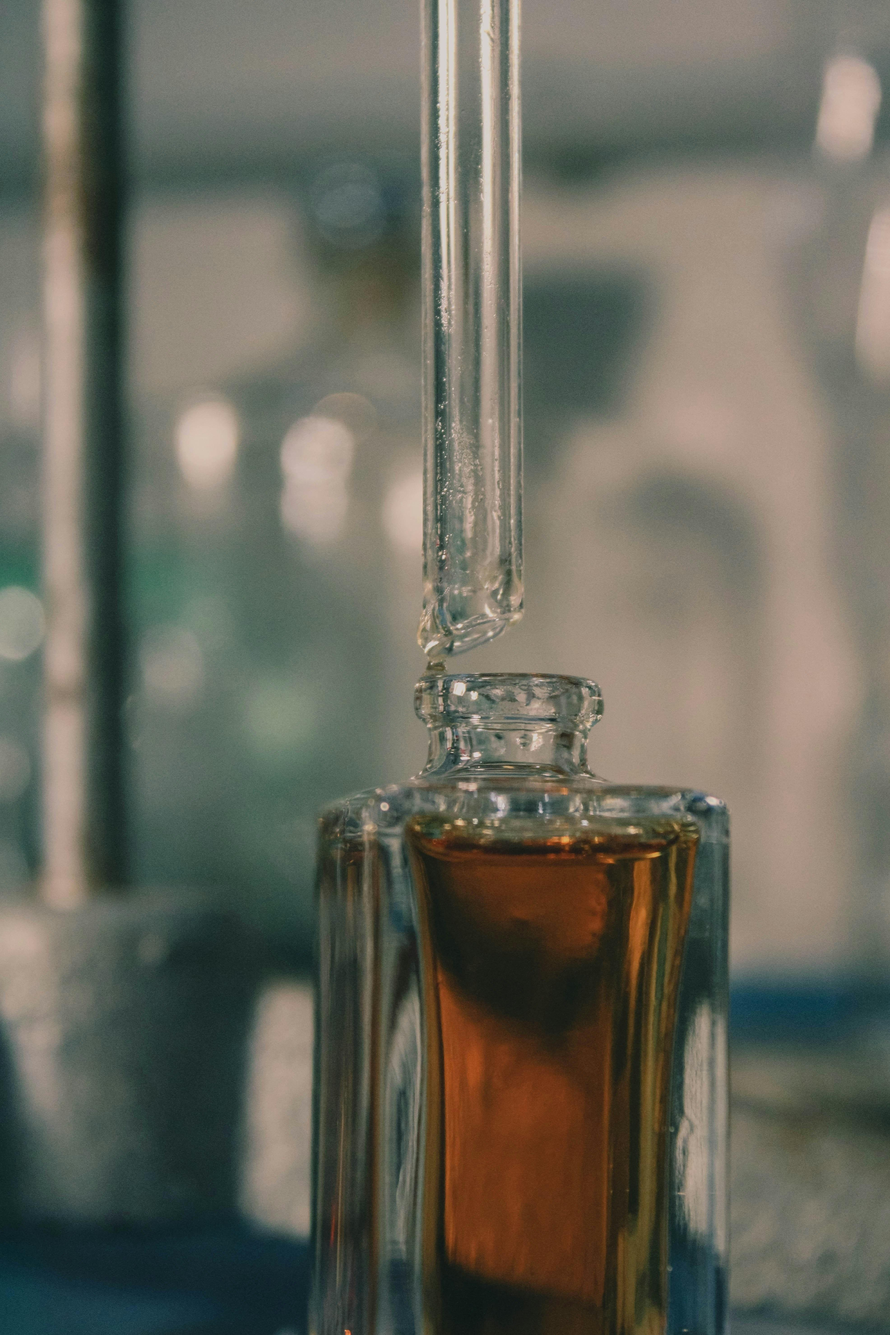Bottle-Detection: (219, 630, 774, 1335)
